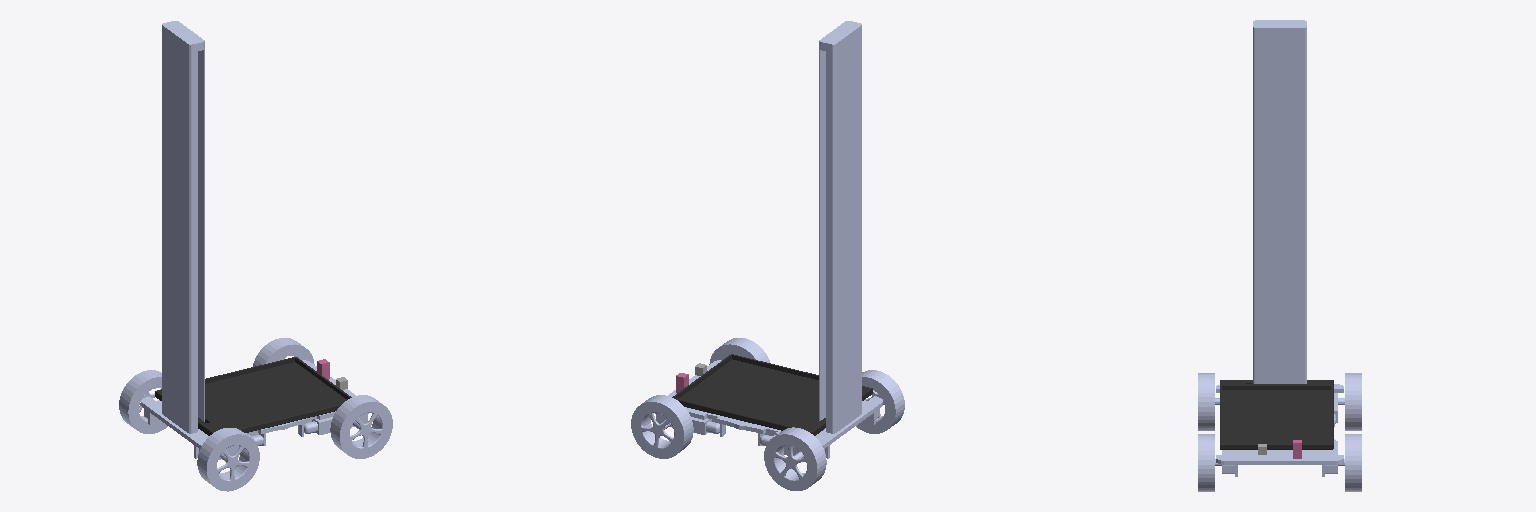
robot.urdf — autonomous_robot_3:
<?xml version="1.0" encoding="utf-8" ?>
<!-- This URDF was automatically created by SolidWorks to URDF Exporter! Originally created by Stephen Brawner (brawner@gmail.com) 
     Commit Version: 1.6.0-4-g7f85cfe  Build Version: 1.6.7995.38578
     For more information, please see http://wiki.ros.org/sw_urdf_exporter -->
<robot name="autonomous_robot_3">
    <link name="base_link">
        <inertial>
            <origin xyz="-0.0626 0.00015231 0.15761" rpy="0 0 0" />
            <mass value="0.61968" />
            <inertia ixx="0.0079493" ixy="1.3324E-06" ixz="-3.4315E-06" iyy="0.0082099" iyz="2.6324E-08" izz="0.00088916" />
        </inertial>
        <visual>
            <origin xyz="0 0 0" rpy="0 0 0" />
            <geometry>
                <mesh filename="package://autonomous_robot_3/meshes/base_link.STL" />
            </geometry>
            <material name="">
                <color rgba="0.79216 0.81961 0.93333 1" />
            </material>
        </visual>
        <collision>
            <origin xyz="0 0 0" rpy="0 0 0" />
            <geometry>
                <mesh filename="package://autonomous_robot_3/meshes/base_link.STL" />
            </geometry>
        </collision>
    </link>
    <link name="linkrightfront">
        <inertial>
            <origin xyz="1.52E-08 0.0098402 1.296E-08" rpy="0 0 0" />
            <mass value="0.045564" />
            <inertia ixx="1.7813E-05" ixy="3.195E-12" ixz="9.3846E-12" iyy="3.2421E-05" iyz="2.7552E-12" izz="1.7813E-05" />
        </inertial>
        <visual>
            <origin xyz="0 0 0" rpy="0 0 0" />
            <geometry>
                <mesh filename="package://autonomous_robot_3/meshes/linkrightfront.STL" />
            </geometry>
            <material name="">
                <color rgba="0.79216 0.81961 0.93333 1" />
            </material>
        </visual>
        <collision>
            <origin xyz="0 0 0" rpy="0 0 0" />
            <geometry>
                <mesh filename="package://autonomous_robot_3/meshes/linkrightfront.STL" />
            </geometry>
            <gazebo>
                <material>Gazebo/Black</material>
                <surface>
                    <friction>
                        <ode>
                            <mu>3.0</mu>
                            <mu2>3.0</mu2>
                        </ode>
                    </friction>
                </surface>
            </gazebo>
        </collision>
    </link>
    <joint name="jointrightfront" type="continuous">
        <origin xyz="0.082613 -0.093717 -0.0125" rpy="0 0 0" />
        <parent link="base_link" />
        <child link="linkrightfront" />
        <axis xyz="0 1 0" />
        <limit effort="1" velocity="1" />
    </joint>
    <link name="linkleftfront">
        <inertial>
            <origin xyz="-1.5699E-08 -0.0098402 -1.2351E-08" rpy="0 0 0" />
            <mass value="0.045564" />
            <inertia ixx="1.7813E-05" ixy="3.3302E-12" ixz="1.5447E-11" iyy="3.2421E-05" iyz="2.5901E-12" izz="1.7813E-05" />
        </inertial>
        <visual>
            <origin xyz="0 0 0" rpy="0 0 0" />
            <geometry>
                <mesh filename="package://autonomous_robot_3/meshes/linkleftfront.STL" />
            </geometry>
            <material name="">
                <color rgba="0.79216 0.81961 0.93333 1" />
            </material>
        </visual>
        <collision>
            <origin xyz="0 0 0" rpy="0 0 0" />
            <geometry>
                <mesh filename="package://autonomous_robot_3/meshes/linkleftfront.STL" />
            </geometry>
            <gazebo>
                <material>Gazebo/Black</material>
                <surface>
                    <friction>
                        <ode>
                            <mu>3.0</mu>
                            <mu2>3.0</mu2>
                        </ode>
                    </friction>
                </surface>
            </gazebo>
        </collision>
    </link>
    <joint name="jointleftfront" type="continuous">
        <origin xyz="0.0826127763161896 0.0940910896506304 -0.0125" rpy="0 0 0" />
        <parent link="base_link" />
        <child link="linkleftfront" />
        <axis xyz="0 -1 0" />
        <limit effort="1" velocity="1" />
    </joint>
    <link name="linkleftback">
        <inertial>
            <origin xyz="-1.9697E-08 -0.0098402 3.3224E-09" rpy="0 0 0" />
            <mass value="0.045564" />
            <inertia ixx="1.7813E-05" ixy="4.1561E-12" ixz="1.1056E-11" iyy="3.2421E-05" iyz="-7.249E-13" izz="1.7813E-05" />
        </inertial>
        <visual>
            <origin xyz="0 0 0" rpy="0 0 0" />
            <geometry>
                <mesh filename="package://autonomous_robot_3/meshes/linkleftback.STL" />
            </geometry>
            <material name="">
                <color rgba="0.79216 0.81961 0.93333 1" />
            </material>
        </visual>
        <collision>
            <origin xyz="0 0 0" rpy="0 0 0" />
            <geometry>
                <mesh filename="package://autonomous_robot_3/meshes/linkleftback.STL" />
            </geometry>
            <gazebo>
                <material>Gazebo/Black</material>
                <surface>
                    <friction>
                        <ode>
                            <mu>3.0</mu>
                            <mu2>3.0</mu2>
                        </ode>
                    </friction>
                </surface>
            </gazebo>
        </collision>
    </link>
    <joint name="jointleftback" type="continuous">
        <origin xyz="-0.0819456955624622 0.0940910896506303 -0.0125" rpy="0 0 0" />
        <parent link="base_link" />
        <child link="linkleftback" />
        <axis xyz="0 -1 0" />
        <limit effort="1" velocity="1" />
    </joint>
    <link name="linkrightback">
        <inertial>
            <origin xyz="1.6867E-08 0.0098402 -1.0701E-08" rpy="0 0 0" />
            <mass value="0.045564" />
            <inertia ixx="1.7813E-05" ixy="3.575E-12" ixz="-1.7667E-11" iyy="3.2421E-05" iyz="-2.2402E-12" izz="1.7813E-05" />
        </inertial>
        <visual>
            <origin xyz="0 0 0" rpy="0 0 0" />
            <geometry>
                <mesh filename="package://autonomous_robot_3/meshes/linkrightback.STL" />
            </geometry>
            <material name="">
                <color rgba="0.79216 0.81961 0.93333 1" />
            </material>
        </visual>
        <collision>
            <origin xyz="0 0 0" rpy="0 0 0" />
            <geometry>
                <mesh filename="package://autonomous_robot_3/meshes/linkrightback.STL" />
            </geometry>
            <gazebo>
                <material>Gazebo/Black</material>
                <surface>
                    <friction>
                        <ode>
                            <mu>3.0</mu>
                            <mu2>3.0</mu2>
                        </ode>
                    </friction>
                </surface>
            </gazebo>
        </collision>
    </link>
    <joint name="jointrightback" type="continuous">
        <origin xyz="-0.0819456955624622 -0.0937168736180515 -0.0125000000000001" rpy="0 0 0" />
        <parent link="base_link" />
        <child link="linkrightback" />
        <axis xyz="0 1 0" />
        <limit effort="1" velocity="1" />
    </joint>
    <link name="link_tray">
        <inertial>
            <origin xyz="-0.01397 -4.2432E-07 -0.00011074" rpy="0 0 0" />
            <mass value="0.059654" />
            <inertia ixx="9.9826E-05" ixy="7.4413E-10" ixz="1.3325E-06" iyy="0.00018415" iyz="-3.9583E-11" izz="0.00028361" />
        </inertial>
        <visual>
            <origin xyz="0 0 0" rpy="0 0 0" />
            <geometry>
                <mesh filename="package://autonomous_robot_3/meshes/link_tray.STL" />
            </geometry>
            <material name="">
                <color rgba="0.25098 0.25098 0.25098 1" />
            </material>
        </visual>
        <collision>
            <origin xyz="0 0 0" rpy="0 0 0" />
            <geometry>
                <mesh filename="package://autonomous_robot_3/meshes/link_tray.STL" />
            </geometry>
        </collision>
    </link>
    <joint name="joint_tray" type="prismatic">
        <origin xyz="0.0051786 -0.0035764 0.007" rpy="0 0 0" />
        <parent link="base_link" />
        <child link="link_tray" />
        <axis xyz="0 0 1" />
        <limit lower="0" upper="0.4" effort="1" velocity="1" />
    </joint>
    <!--<gazebo>
    <plugin name="skid_steer_drive_controller" filename="libgazebo_ros_skid_steer_drive.so">
      <updateRate>100.0</updateRate>
      <robotNamespace>/</robotNamespace>
      <leftFrontJoint>jointleftfront</leftFrontJoint>
      <rightFrontJoint>jointrightfront</rightFrontJoint>
      <leftRearJoint>jointleftback</leftRearJoint>
      <rightRearJoint>jointrightback</rightRearJoint>
      <wheelSeparation>1.5</wheelSeparation>
      <wheelDiameter>0.25</wheelDiameter>
      <robotBaseFrame>base_link</robotBaseFrame>
      <torque>15</torque>
      <commandTopic>cmd_vel</commandTopic>
      <commandTopic>cmd_vel</commandTopic>
      <odometryTopic>odom</odometryTopic>
      <odometryFrame>odom</odometryFrame>
      <odometryRate>20.0</odometryRate>
      <covariance_x>0.0001</covariance_x>
      <covariance_y>0.0001</covariance_y>
      <covariance_yaw>0.01</covariance_yaw>
    </plugin>
  </gazebo>-->
    <gazebo>
        <plugin name="omni_steering" filename="libgazebo_ros_planar_move.so">
            <commandTopic>cmd_vel</commandTopic>
            <odometryTopic>odom</odometryTopic>
            <odometryFrame>odom</odometryFrame>
            <odometryRate>20.0</odometryRate>
            <robotBaseFrame>base_link</robotBaseFrame>
        </plugin>
        <plugin name="gazebo_ros_control" filename="libgazebo_ros_control.so">
            <robotNamespace>/</robotNamespace>
        </plugin>
    </gazebo>
    <!--<gazebo>
  <plugin name="differential_drive_controller_1" filename="libgazebo_ros_diff_drive.so">

    <updateRate>100</updateRate>
    <leftFrontJoint>jointleftfront</leftFrontJoint>
      <rightFrontJoint>jointrightfront</rightFrontJoint>
    
      <wheelSeparation>1.5</wheelSeparation>
      <wheelDiameter>0.25</wheelDiameter>
    <wheelTorque>20</wheelTorque>
    <commandTopic>cmd_vel</commandTopic>
    <odometryTopic>odom</odometryTopic>
    <odometryFrame>odom</odometryFrame>
    <robotBaseFrame>base_link</robotBaseFrame>
    <odometrySource>1</odometrySource>
    <publishWheelTF>false</publishWheelTF>
    <publishOdom>true</publishOdom>
    <publishWheelJointState>true</publishWheelJointState>
    <legacyMode>false</legacyMode>
  </plugin>
</gazebo>

  <gazebo>
  <plugin name="differential_drive_controller_2" filename="libgazebo_ros_diff_drive.so">

    <updateRate>100</updateRate>
  
      <leftRearJoint>jointleftback</leftRearJoint>
      <rightRearJoint>jointrightback</rightRearJoint>
      <wheelSeparation>1.5</wheelSeparation>
      <wheelDiameter>0.25</wheelDiameter>
    <wheelTorque>20</wheelTorque>
    <commandTopic>cmd_vel</commandTopic>
    <odometryTopic>odom</odometryTopic>
    <odometryFrame>odom</odometryFrame>
    <robotBaseFrame>base_link</robotBaseFrame>
    <odometrySource>1</odometrySource>
    <publishWheelTF>false</publishWheelTF>
    <publishOdom>true</publishOdom>
    <publishWheelJointState>true</publishWheelJointState>
    <legacyMode>false</legacyMode>
  </plugin>
</gazebo>-->
    <joint name="camera_joint" type="fixed">
        <axis xyz="0 1 0" />
        <origin xyz="0.095 0.02 0.01" rpy="0 0 0" />
        <parent link="base_link" />
        <child link="camera_link" />
    </joint>
    <!-- Camera -->
    <link name="camera_link">
        <collision>
            <origin xyz="0 0 0" rpy="0 0 0" />
            <geometry>
                <box size="0.01 0.01 0.02" />
            </geometry>
        </collision>
        <visual>
            <origin xyz="0 0 0" rpy="0 0 0" />
            <geometry>
                <box size="0.01 0.01 0.02" />
            </geometry>
            <material name="red" />
        </visual>
        <inertial>
            <mass value="1e-5" />
            <origin xyz="0 0 0" rpy="0 0 0" />
            <inertia ixx="1e-6" ixy="0" ixz="0" iyy="1e-6" iyz="0" izz="1e-6" />
        </inertial>
    </link>
    <!-- camera -->
    <gazebo reference="camera_link">
        <sensor type="camera" name="camera1">
            <update_rate>30.0</update_rate>
            <camera name="head">
                <horizontal_fov>1.3962634</horizontal_fov>
                <image>
                    <width>800</width>
                    <height>800</height>
                    <format>R8G8B8</format>
                </image>
                <clip>
                    <near>0.02</near>
                    <far>300</far>
                </clip>
                <noise>
                    <type>gaussian</type>
                    <!-- Noise is sampled independently per pixel on each frame.
               That pixel's noise value is added to each of its color
               channels, which at that point lie in the range [0,1]. -->
                    <mean>0.0</mean>
                    <stddev>0.007</stddev>
                </noise>
            </camera>
            <plugin name="camera_controller" filename="libgazebo_ros_camera.so">
                <alwaysOn>true</alwaysOn>
                <updateRate>0.0</updateRate>
                <cameraName>rrbot/camera1</cameraName>
                <imageTopicName>image_raw</imageTopicName>
                <cameraInfoTopicName>camera_info</cameraInfoTopicName>
                <frameName>camera_link</frameName>
                <hackBaseline>0.07</hackBaseline>
                <distortionK1>0.0</distortionK1>
                <distortionK2>0.0</distortionK2>
                <distortionK3>0.0</distortionK3>
                <distortionT1>0.0</distortionT1>
                <distortionT2>0.0</distortionT2>
            </plugin>
        </sensor>
    </gazebo>
    <joint name="hokuyo_joint" type="fixed">
        <axis xyz="0 1 0" />
        <origin xyz="0.095 -0.02 0.01" rpy="0 0 0" />
        <parent link="base_link" />
        <child link="hokuyo_link" />
    </joint>
    <!-- Hokuyo Laser -->
    <link name="hokuyo_link">
        <collision>
            <origin xyz="0 0 0" rpy="0 0 0" />
            <geometry>
                <box size="0.01 0.01 0.01" />
            </geometry>
        </collision>
        <visual>
            <origin xyz="0 0 0" rpy="0 0 0" />
            <geometry>
                <box size="0.01 0.01 0.01" />
            </geometry>
        </visual>
        <inertial>
            <mass value="1e-5" />
            <origin xyz="0 0 0" rpy="0 0 0" />
            <inertia ixx="1e-6" ixy="0" ixz="0" iyy="1e-6" iyz="0" izz="1e-6" />
        </inertial>
    </link>
    <!-- hokuyo -->
    <gazebo reference="hokuyo_link">
        <sensor type="ray" name="head_hokuyo_sensor">
            <pose>0 0 0 0 0 0</pose>
            <visualize>true</visualize>
            <update_rate>20</update_rate>
            <ray>
                <scan>
                    <horizontal>
                        <samples>720</samples>
                        <resolution>1</resolution>
                        <min_angle>-1.57</min_angle>
                        <max_angle>1.57</max_angle>
                    </horizontal>
                </scan>
                <range>
                    <min>0.4</min>
                    <max>7.0</max>
                    <resolution>0.01</resolution>
                </range>
                <noise>
                    <type>gaussian</type>
                    <!-- Noise parameters based on published spec for Hokuyo laser
               achieving "+-30mm" accuracy at range < 10m.  A mean of 0.0m and
               stddev of 0.01m will put 99.7% of samples within 0.03m of the true
               reading. -->
                    <mean>0.0</mean>
                    <stddev>0.01</stddev>
                </noise>
            </ray>
            <plugin name="gazebo_ros_head_hokuyo_controller" filename="libgazebo_ros_laser.so">
                <topicName>/scan</topicName>
                <frameName>hokuyo_link</frameName>
            </plugin>
        </sensor>
    </gazebo>
    <transmission name="trans_jointrightfront">
        <type>transmission_interface/SimpleTransmission</type>
        <joint name="jointrightfront">
            <hardwareInterface>hardware_interface/EffortJointInterface</hardwareInterface>
        </joint>
        <actuator name="jointrightfront_motor">
            <hardwareInterface>hardware_interface/EffortJointInterface</hardwareInterface>
            <mechanicalReduction>1</mechanicalReduction>
        </actuator>
    </transmission>
    <transmission name="trans_jointleftfront">
        <type>transmission_interface/SimpleTransmission</type>
        <joint name="jointleftfront">
            <hardwareInterface>hardware_interface/EffortJointInterface</hardwareInterface>
        </joint>
        <actuator name="jointleftfront_motor">
            <hardwareInterface>hardware_interface/EffortJointInterface</hardwareInterface>
            <mechanicalReduction>1</mechanicalReduction>
        </actuator>
    </transmission>
    <transmission name="trans_jointleftback">
        <type>transmission_interface/SimpleTransmission</type>
        <joint name="jointleftback">
            <hardwareInterface>hardware_interface/EffortJointInterface</hardwareInterface>
        </joint>
        <actuator name="jointleftback_motor">
            <hardwareInterface>hardware_interface/EffortJointInterface</hardwareInterface>
            <mechanicalReduction>1</mechanicalReduction>
        </actuator>
    </transmission>
    <transmission name="trans_jointrightback">
        <type>transmission_interface/SimpleTransmission</type>
        <joint name="jointrightback">
            <hardwareInterface>hardware_interface/EffortJointInterface</hardwareInterface>
        </joint>
        <actuator name="jointrightback_motor">
            <hardwareInterface>hardware_interface/EffortJointInterface</hardwareInterface>
            <mechanicalReduction>1</mechanicalReduction>
        </actuator>
    </transmission>
    <transmission name="trans_joint_tray">
        <type>transmission_interface/SimpleTransmission</type>
        <joint name="joint_tray">
            <hardwareInterface>hardware_interface/PositionJointInterface</hardwareInterface>
        </joint>
        <actuator name="joint_tray_motor">
            <hardwareInterface>hardware_interface/PositionJointInterface</hardwareInterface>
            <mechanicalReduction>1</mechanicalReduction>
        </actuator>
    </transmission>
</robot>

--- What the picture shows (computed from the rendered views, not written in the file) ---
3 views of the same robot in one strip: view 1: azimuth 30°, elevation 25°; view 2: azimuth 150°, elevation 25°; view 3: azimuth 270°, elevation 25° (orthographic).
Robot: autonomous_robot_3 — 8 links, 7 joints (4 continuous, 1 prismatic, 2 fixed); root link base_link; default pose: every joint at zero.
Visible links, largest first — view 1: base_link, link_tray, linkrightfront, linkrightback, linkleftback, linkleftfront; view 2: base_link, link_tray, linkleftback, linkleftfront, linkrightback, linkrightfront; view 3: base_link, link_tray, linkleftback, linkrightback, linkrightfront, linkleftfront.
Link boxes in pixels (x1,y1,x2,y2): base_link: (141,21,368,459); link_tray: (155,357,351,435); linkrightfront: (330,395,392,458); linkrightback: (197,428,259,491); linkleftback: (119,370,167,433); linkleftfront: (253,338,314,366); base_link: (655,21,882,458); link_tray: (672,354,872,435); linkleftback: (764,427,826,490); linkleftfront: (631,395,693,458); linkrightback: (856,370,904,433); linkrightfront: (709,338,769,364); base_link: (1216,20,1343,476); link_tray: (1220,380,1333,449); linkleftback: (1338,373,1361,430); linkrightback: (1198,373,1219,430); linkrightfront: (1198,434,1221,491); linkleftfront: (1338,434,1361,491).
Size in the robot's own frame: 0.2306 by 0.1878 by 0.5055 metres.
Meshes: 6 distinct files referenced, 6 mesh visuals loaded (6 binary STL).
